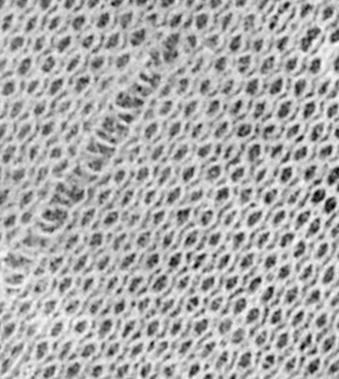slub: (7, 46, 179, 307)
